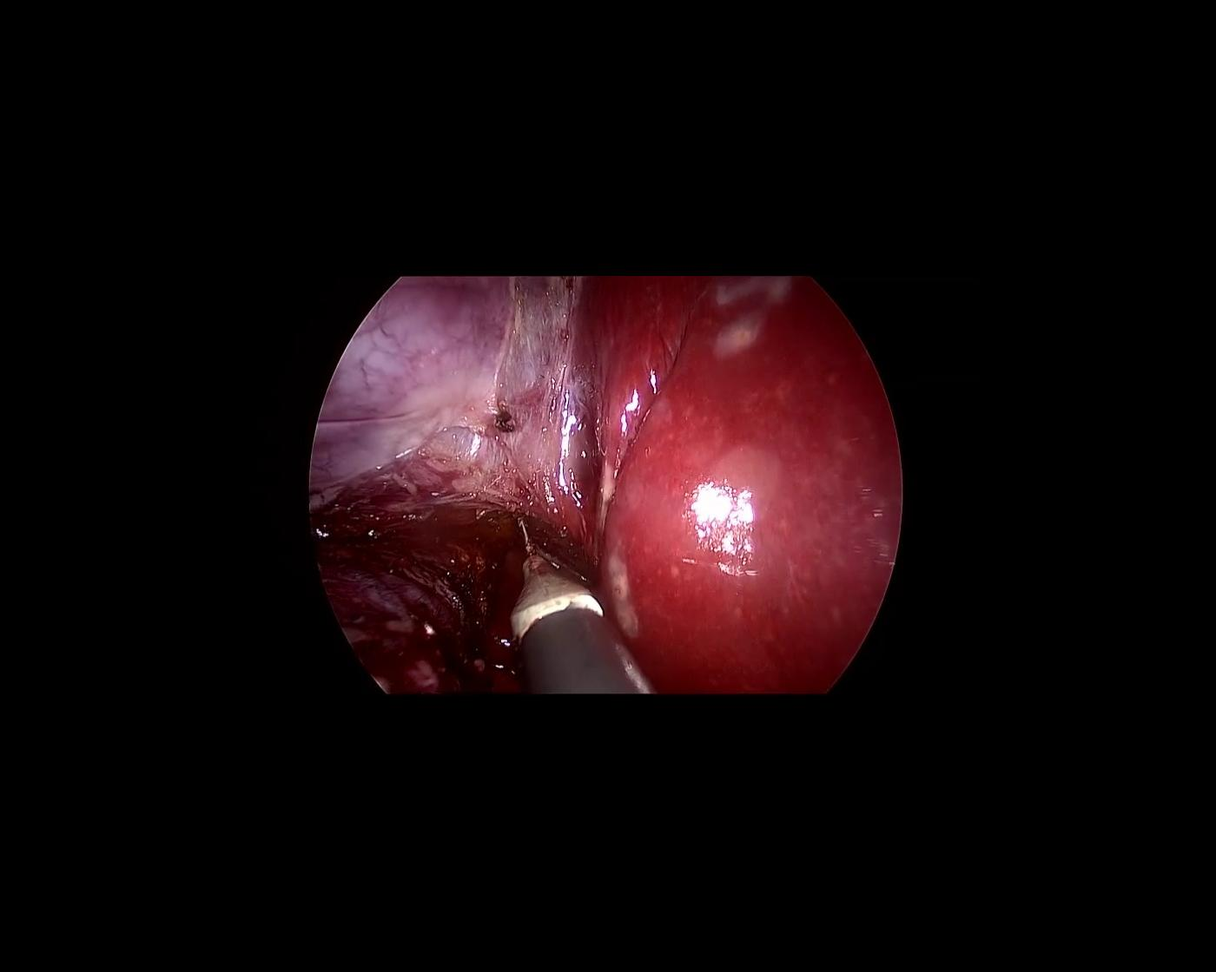Cautery: (455, 496, 655, 741)
Gallbladder: (298, 233, 525, 536)
Liver: (586, 278, 898, 694)
